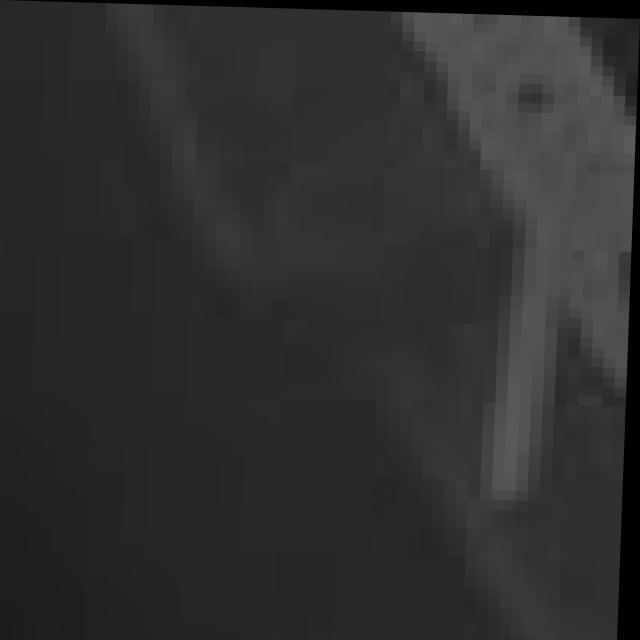fracture: (0, 10, 629, 640)
